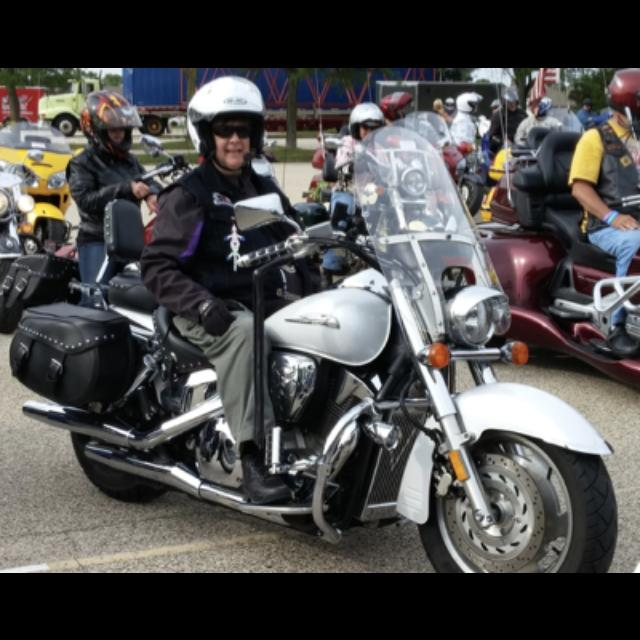With Helmet: (182, 72, 276, 174), (76, 85, 144, 162)
